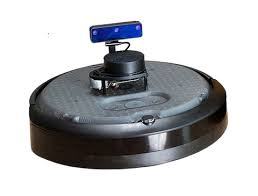turtlebot: (8, 11, 249, 178)
